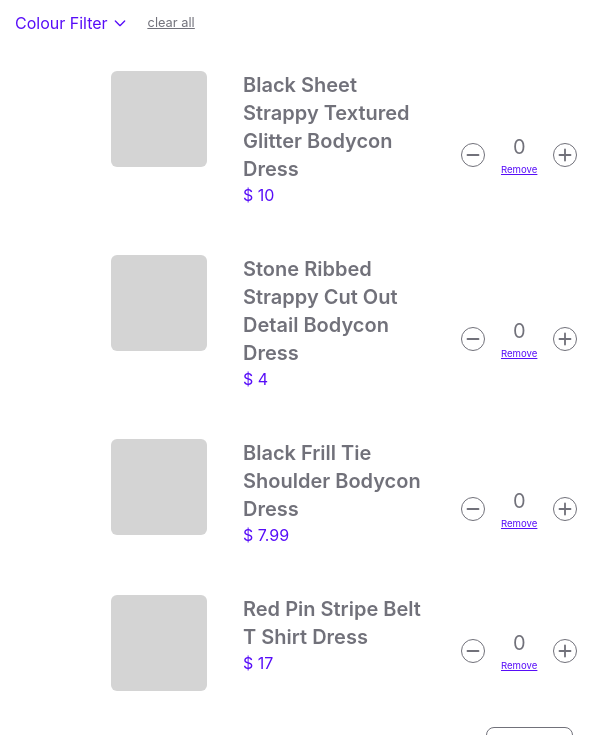
it: Cart › Delete from Cart
Click the element with test id "1-product-add".
click(565, 155)  # box [553, 143, 577, 167]
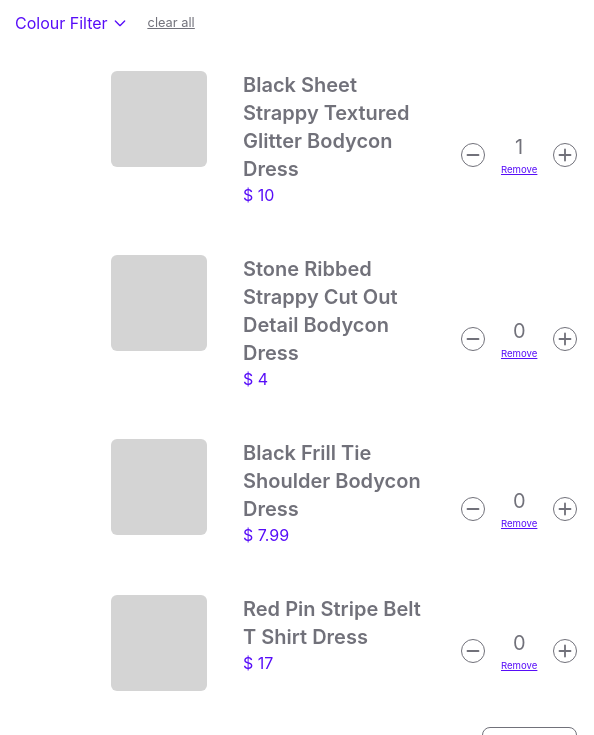
Now the heading with test id "1-product-qty" reads "1", box [515, 134, 523, 158]
Click the element with test id "1-product-delete".
click(473, 155)  # box [461, 143, 485, 167]
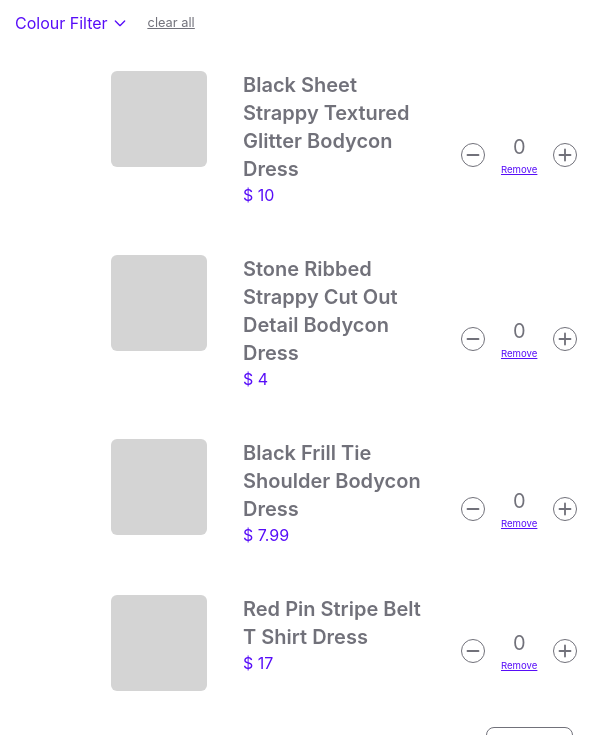
Now the heading with test id "1-product-qty" reads "0", box [513, 134, 526, 158]
